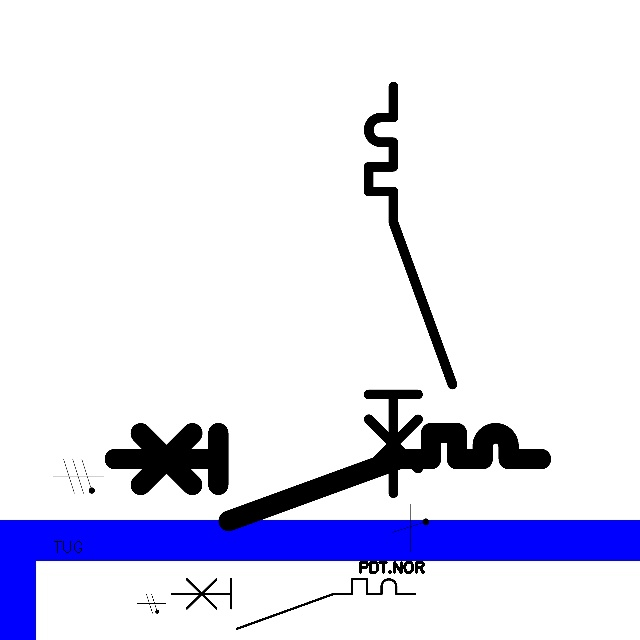interruptor_termomagnetico: (103, 422, 552, 532), (358, 76, 462, 504), (165, 573, 420, 635)
